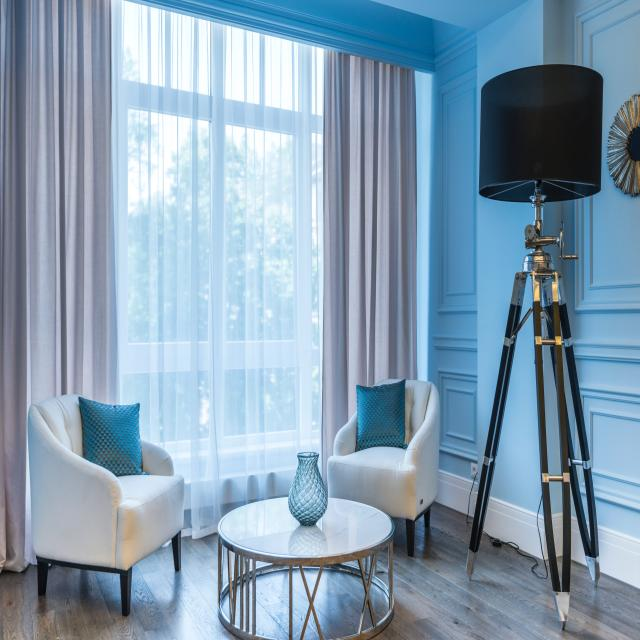floor: (366, 501, 640, 640), (0, 534, 243, 640), (313, 569, 365, 640), (256, 570, 289, 640), (292, 569, 310, 640), (369, 582, 389, 624), (303, 609, 321, 640), (376, 545, 389, 586), (303, 568, 319, 599), (362, 602, 373, 632), (222, 545, 229, 591), (220, 591, 230, 620), (235, 583, 240, 628), (249, 578, 252, 633), (341, 560, 360, 568), (243, 580, 246, 630), (231, 550, 235, 580), (256, 560, 271, 568), (361, 558, 364, 570), (249, 559, 252, 570), (367, 556, 369, 572)
wall: (561, 0, 640, 544), (477, 0, 543, 492), (428, 20, 479, 483), (126, 0, 435, 72), (490, 311, 542, 514), (561, 0, 606, 65), (542, 345, 562, 475), (561, 344, 582, 461), (575, 464, 589, 523), (541, 201, 561, 236), (519, 276, 532, 323), (549, 481, 563, 515), (570, 481, 577, 518)
